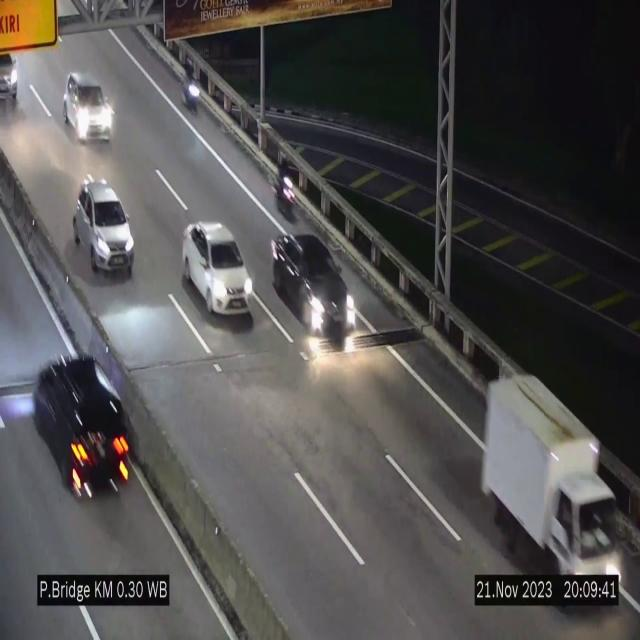Car: (19, 330, 137, 504), (271, 234, 358, 346), (182, 222, 252, 318), (74, 180, 134, 272), (64, 72, 114, 142), (0, 36, 30, 120)
Motorcycle: (274, 156, 296, 226), (181, 52, 200, 121)
Truck: (481, 375, 634, 593)
